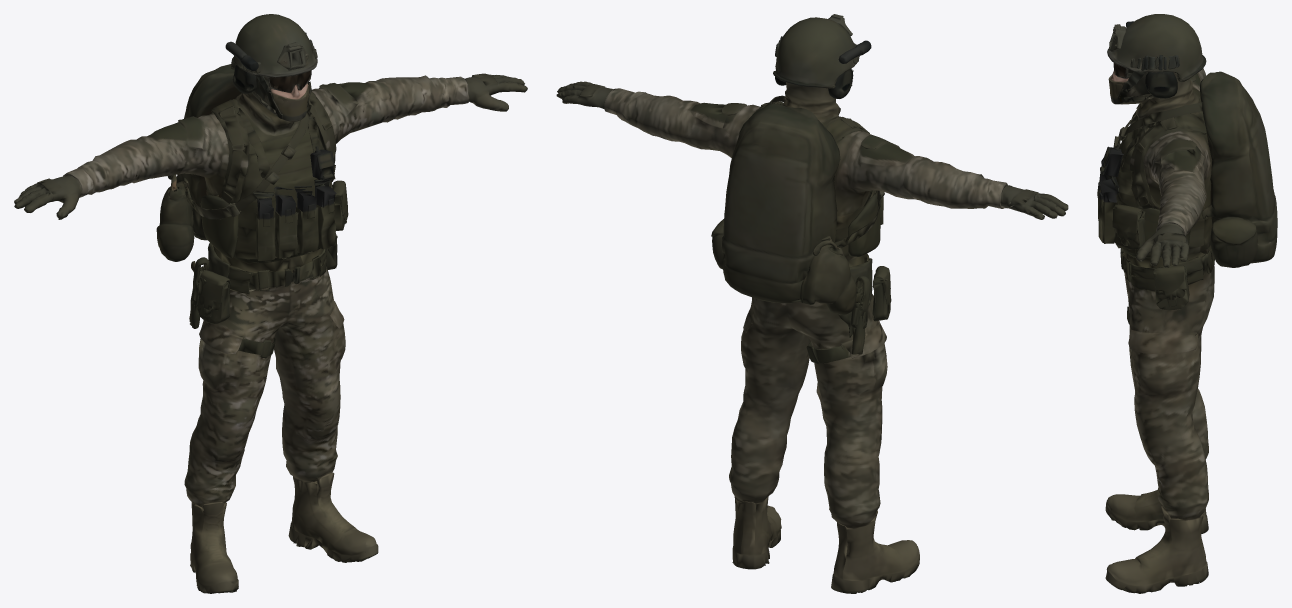
Rendered from ModernSoldier_Source.fbx.
The picture shows the model from 3 angles, left to right: view 1: azimuth 30°, elevation 25°; view 2: azimuth 150°, elevation 25°; view 3: azimuth 270°, elevation 25°; orthographic projection.
Visible parts, largest first — view 1: geometry_0; view 2: geometry_0; view 3: geometry_0.
Boxes of the visible parts, x1,y1,x2,y2 form: geometry_0: (14, 14, 527, 593); geometry_0: (556, 14, 1068, 593); geometry_0: (1097, 14, 1277, 593).
Bounding box in the file's own units: 92.77 × 95.07 × 28.91.
Materials: 1 (1 with a texture image).
